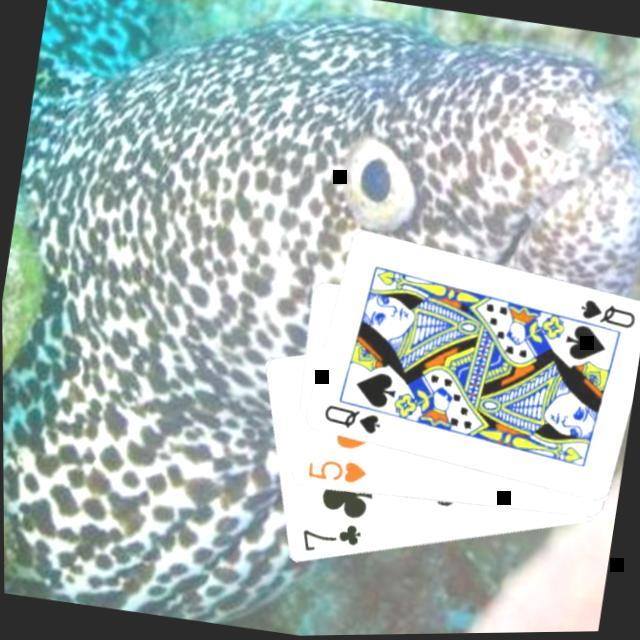5H: (300, 451, 369, 490)
7C: (294, 512, 363, 562)
QS: (315, 399, 383, 439), (572, 294, 638, 334)
